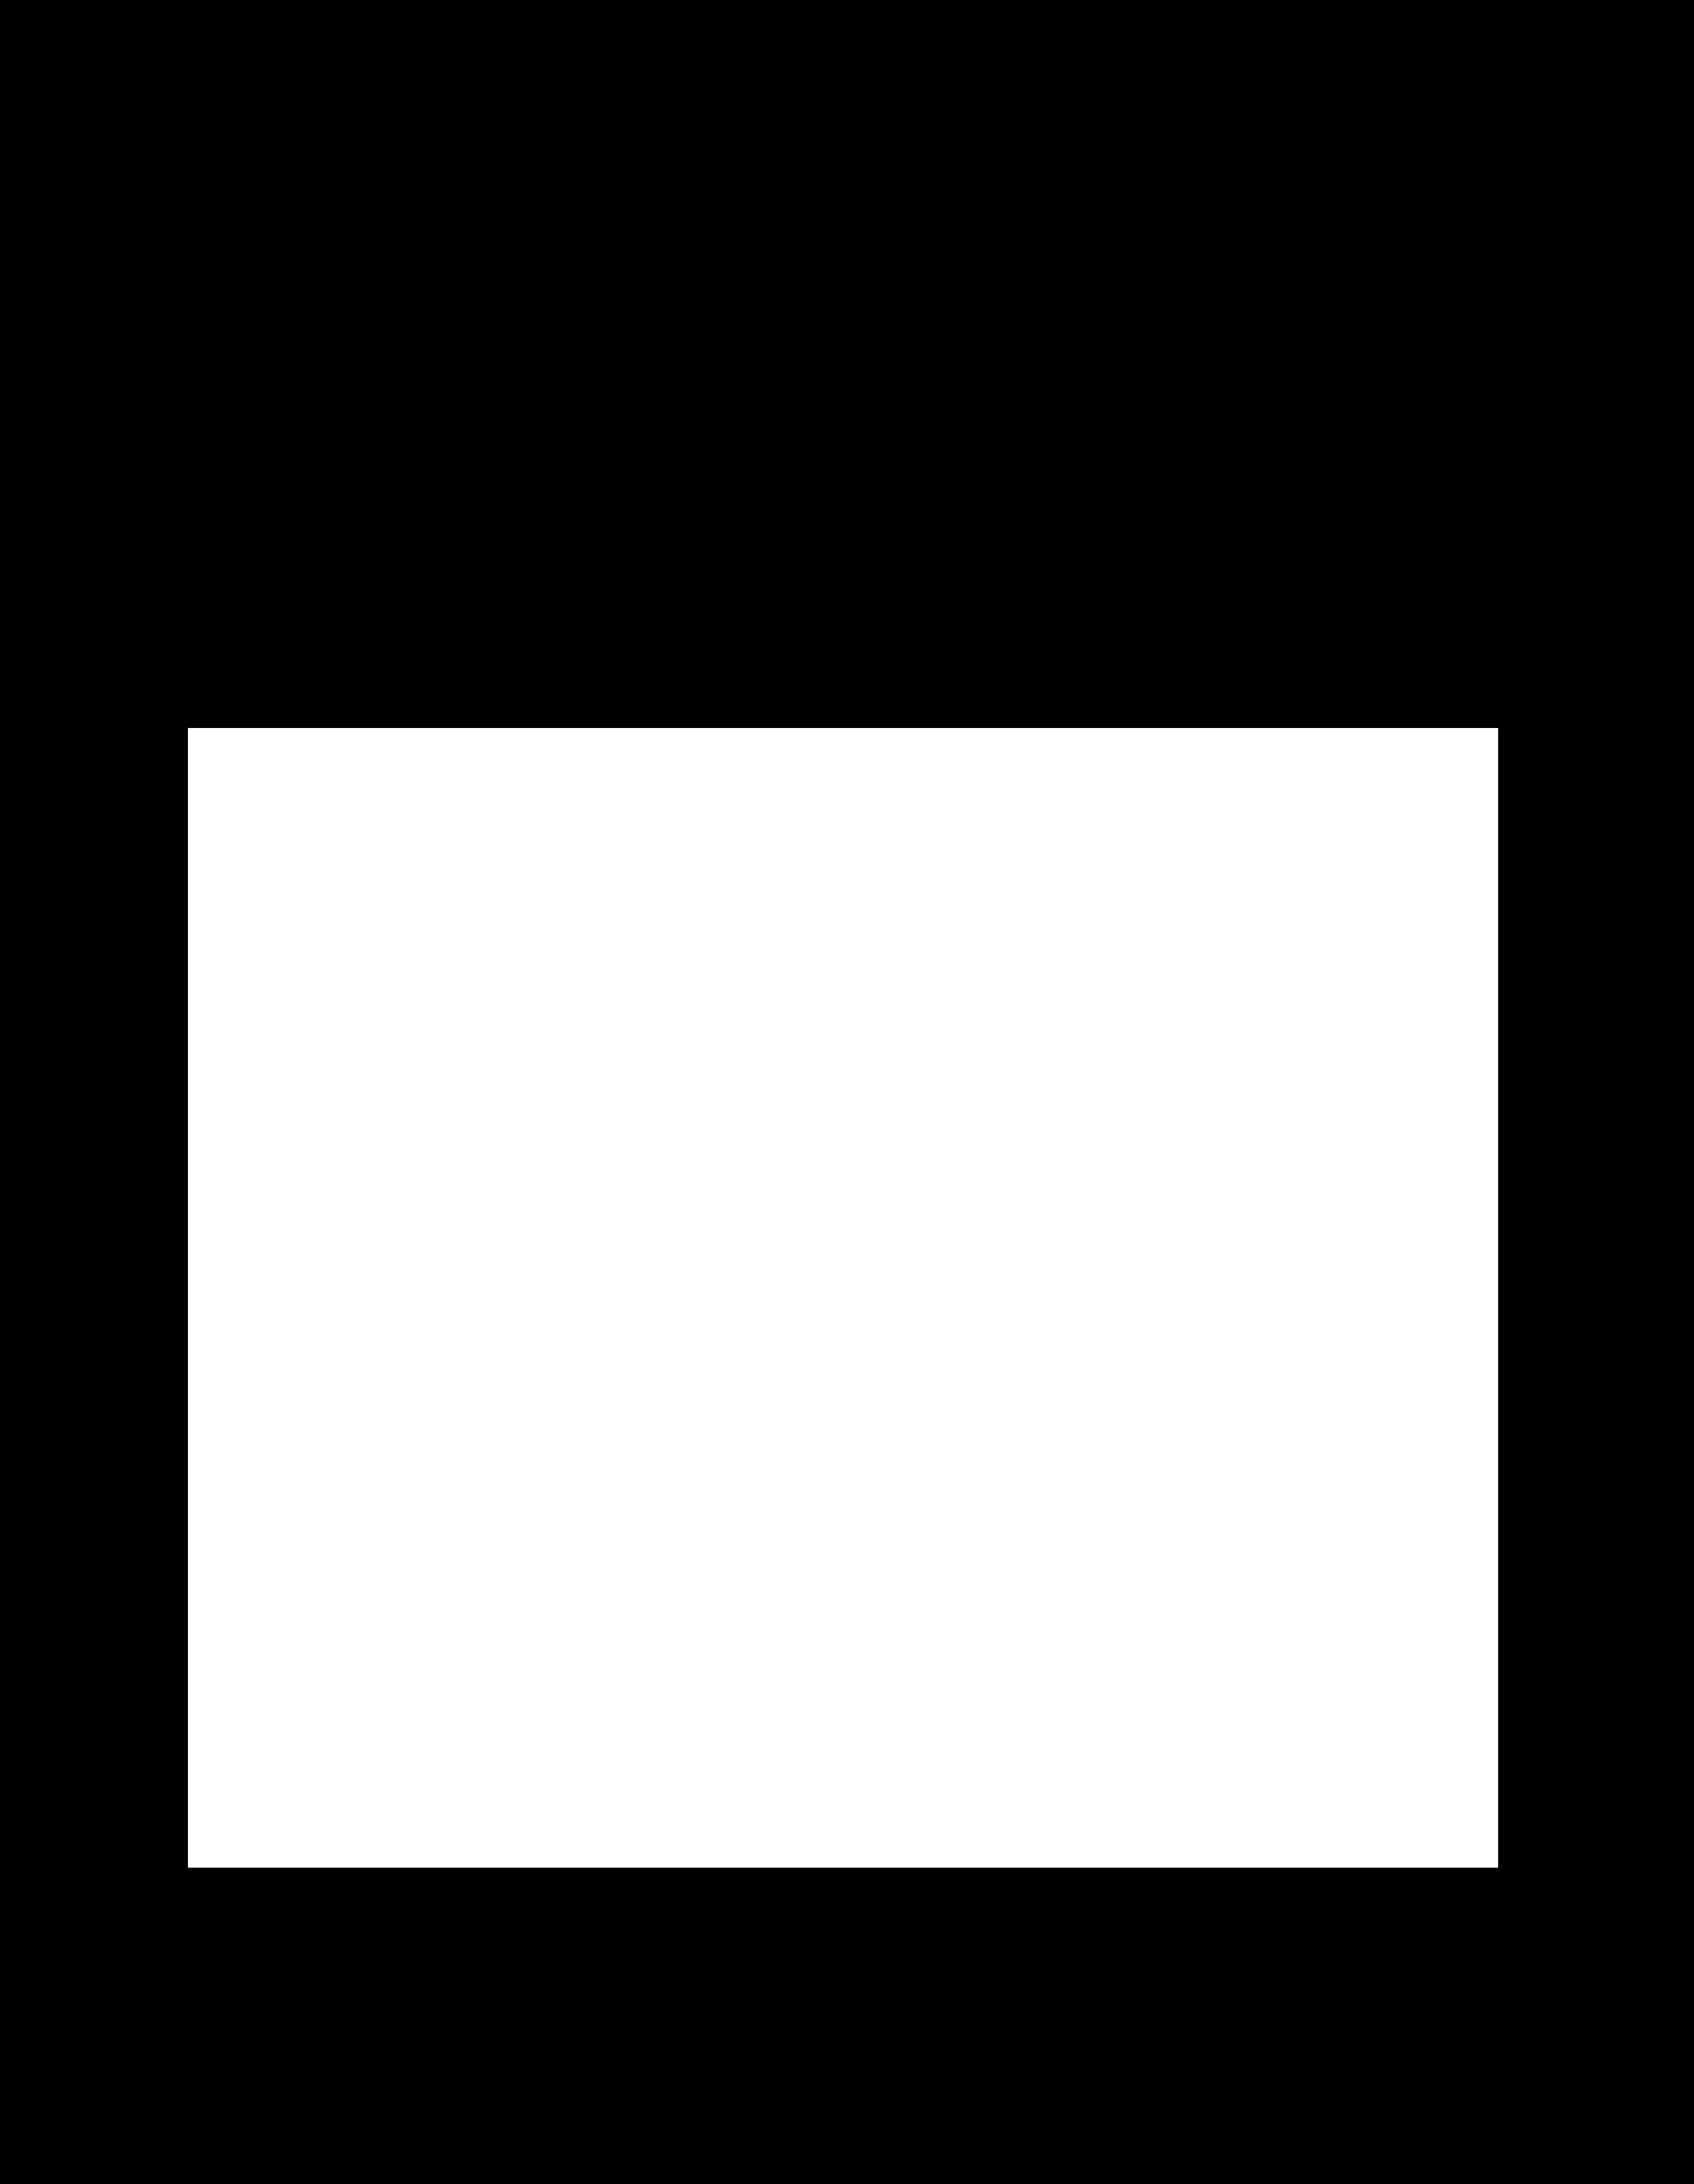table: (188, 729, 1497, 1867)
